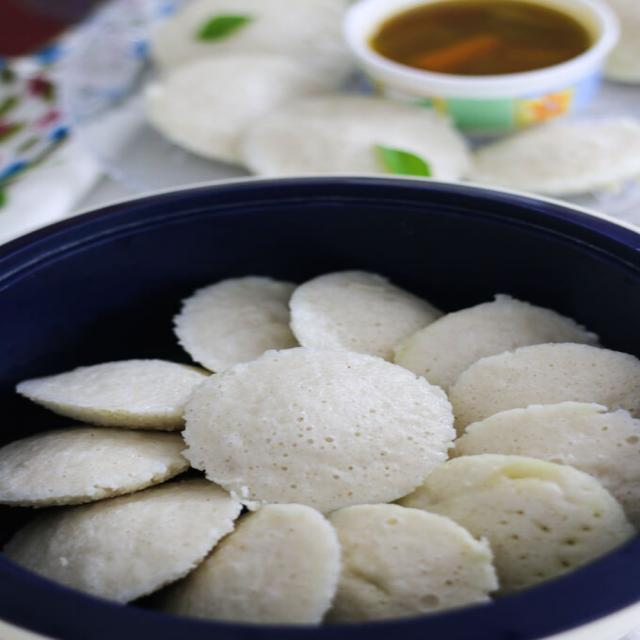Idly: (176, 341, 481, 522), (0, 488, 256, 604), (411, 451, 635, 583), (324, 488, 506, 622), (7, 319, 218, 432), (1, 410, 204, 510), (204, 505, 347, 640), (157, 259, 304, 375), (468, 395, 640, 488), (449, 341, 640, 424), (393, 292, 595, 368), (286, 259, 430, 359)
